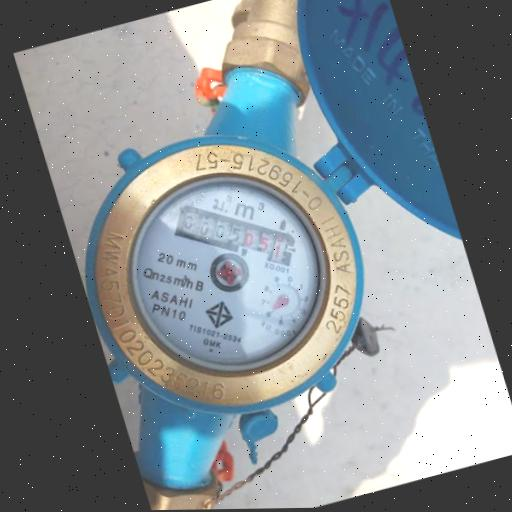0: (191, 212, 219, 243), (207, 216, 235, 245), (236, 225, 264, 254), (175, 208, 202, 237)
1: (262, 232, 295, 267)
5: (223, 221, 250, 250), (251, 230, 277, 256)
border_water_meter_number: (163, 176, 308, 294)
